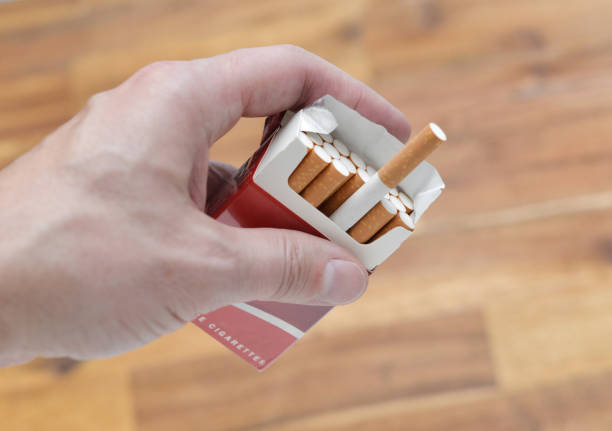cigarette: (190, 95, 448, 373), (328, 120, 447, 232), (321, 166, 372, 220), (300, 159, 349, 209), (347, 198, 397, 244), (286, 145, 331, 194), (366, 210, 416, 243), (295, 132, 314, 152), (340, 156, 357, 176), (399, 192, 414, 213), (305, 129, 323, 146), (334, 139, 350, 157), (322, 142, 341, 157), (390, 195, 406, 211), (350, 152, 366, 168), (318, 132, 335, 144), (366, 165, 378, 177), (389, 185, 400, 196)
